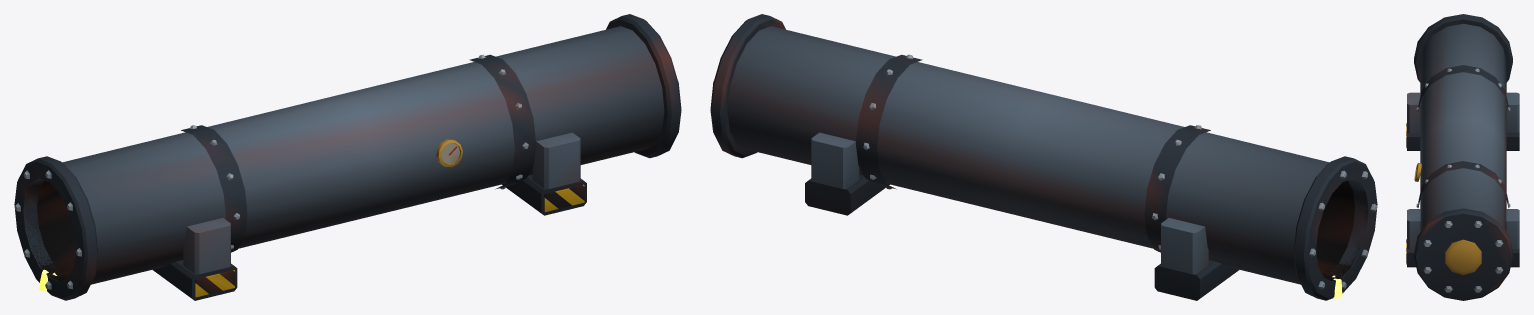
Rendered from log_forge.glb.
3 renders of one model, left to right at view 1: azimuth 30°, elevation 25°; view 2: azimuth 150°, elevation 25°; view 3: azimuth 270°, elevation 25°, orthographic. The views are drawn at different scales.
Parts seen in each view (by area): view 1: log_forge; view 2: log_forge; view 3: log_forge.
Part boxes in pixels (x1=…): log_forge: x1=14, y1=14, x2=681, y2=300; log_forge: x1=710, y1=14, x2=1377, y2=300; log_forge: x1=1406, y1=14, x2=1519, y2=300.
Bounding box in the file's own units: 3.99 × 0.83 × 0.95.
